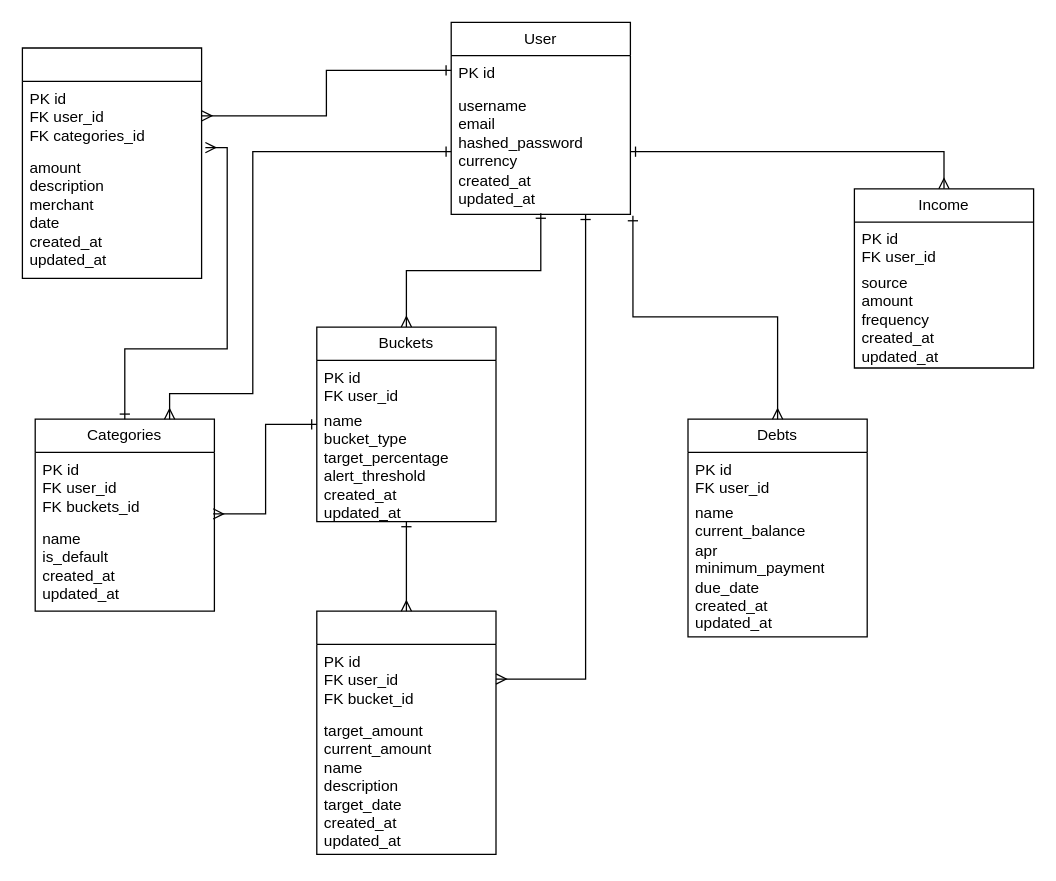
Some shapes in this 1056 by 881 pixel diagram are drawn without their labels. The box of each missing label's shape, as (x1, y1, x2, y2) in pixels:
Savings Goals: (316, 610, 496, 854)
Transactions: (21, 47, 202, 278)
